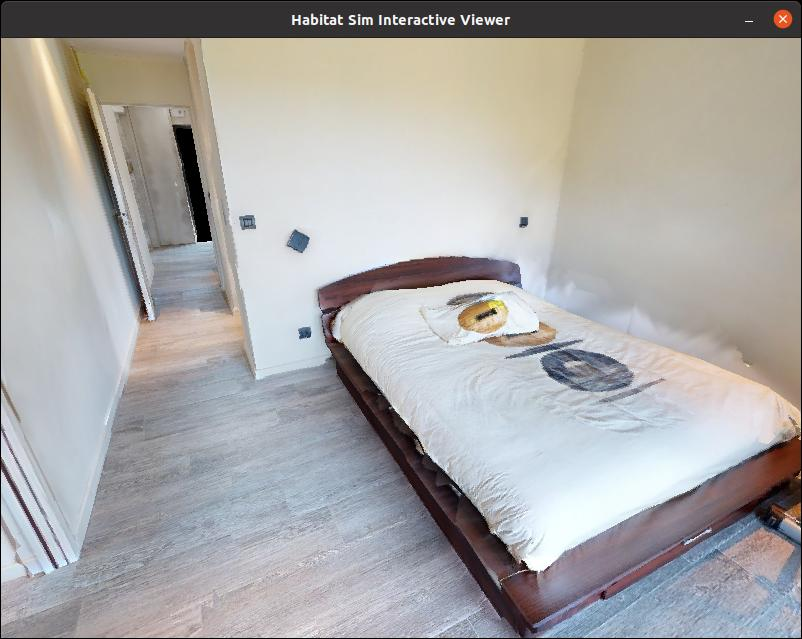bed: (295, 233, 802, 639)
door-frame: (90, 97, 239, 330)
